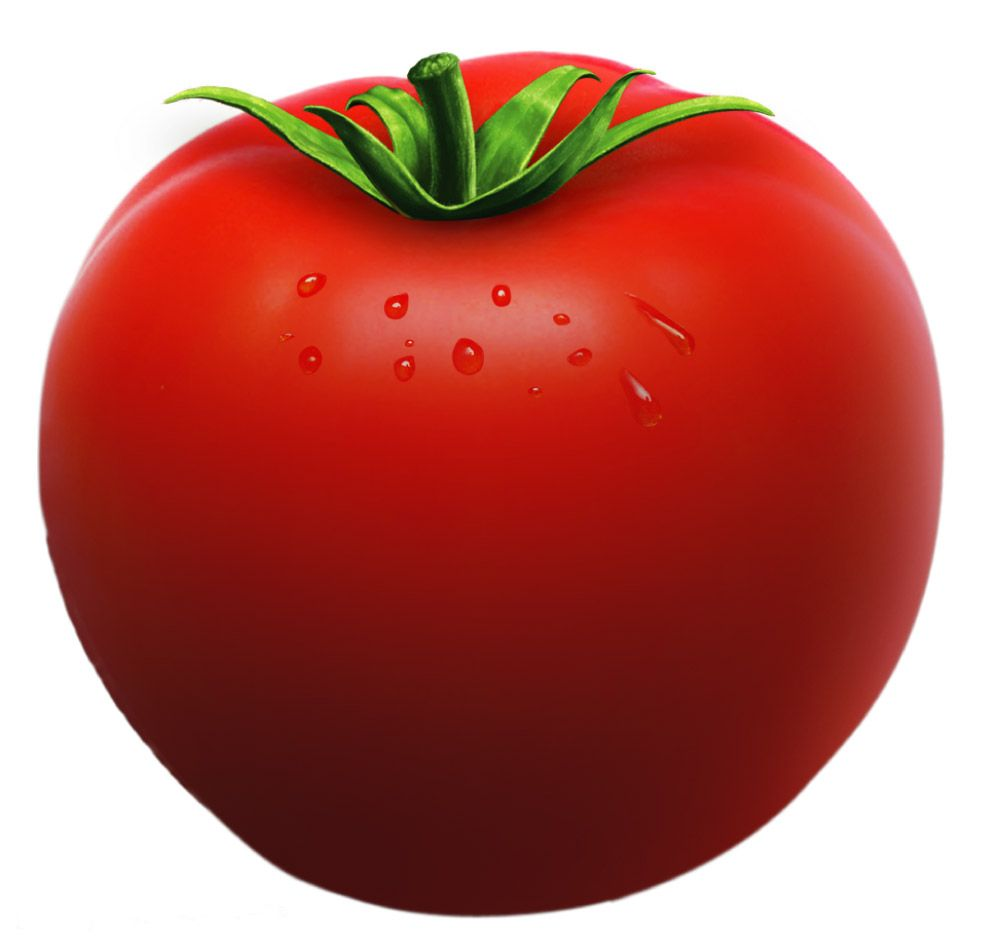tomato: (41, 53, 946, 913)
